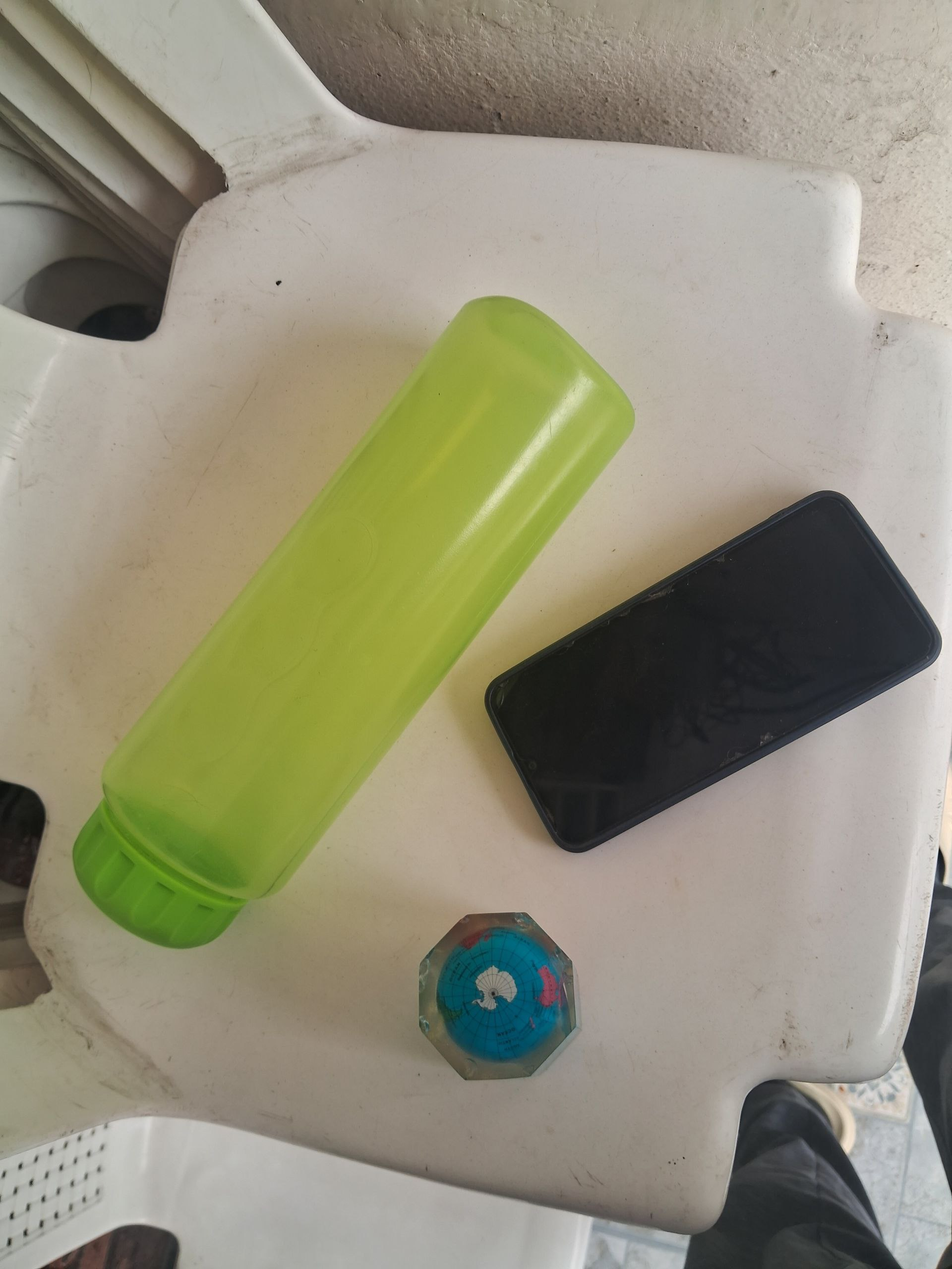Smart_phone: (479, 484, 943, 857)
Water_bottle: (64, 288, 641, 955)
world_globe: (391, 903, 591, 1092)
